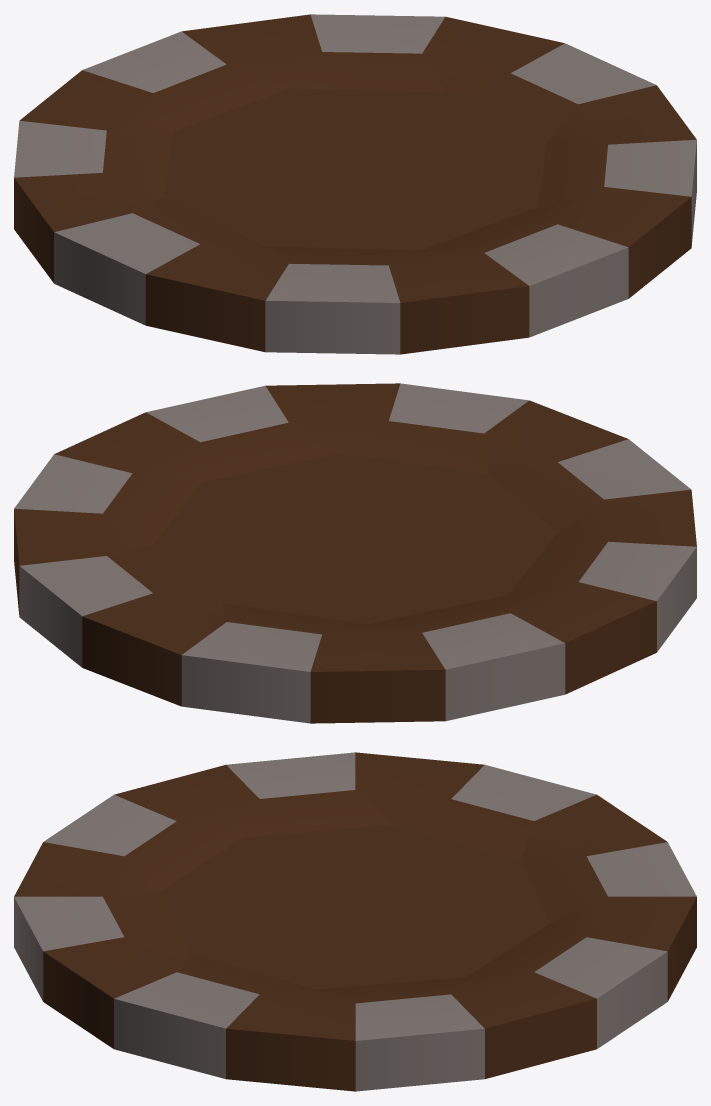
Rendered from poker_chip.fbx.
3 views of the same model, one above another, from view 1: azimuth 30°, elevation 25°; view 2: azimuth 150°, elevation 25°; view 3: azimuth 270°, elevation 25° (orthographic).
Parts seen in each view (by area): view 1: chip_low; view 2: chip_low; view 3: chip_low.
Boxes of the visible parts, x1,y1,x2,y2 form: chip_low: (14,14,696,354); chip_low: (14,383,696,723); chip_low: (14,752,696,1091).
Bounding box in the file's own units: 0.1567 × 0.0128 × 0.1567.
